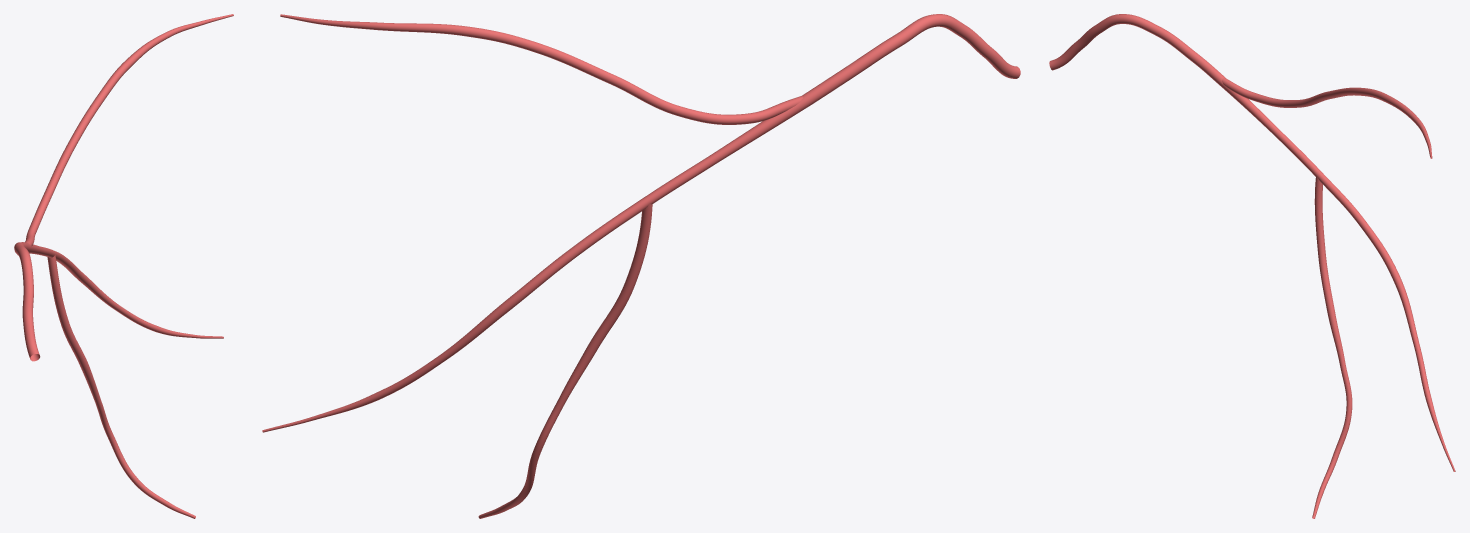
The model's file is Temporo-occipital_branch.r_BezierCurve.236.glb.
The picture shows the model from 3 angles, left to right: view 1: azimuth 30°, elevation 25°; view 2: azimuth 150°, elevation 25°; view 3: azimuth 270°, elevation 25°; orthographic projection. The views are drawn at different scales.
Visible parts, largest first — view 1: Temporo-occipital_branch.r_BezierCurve.236; view 2: Temporo-occipital_branch.r_BezierCurve.236; view 3: Temporo-occipital_branch.r_BezierCurve.236.
Part boxes in pixels (x1,y1,x2,y2): Temporo-occipital_branch.r_BezierCurve.236: (14, 14, 233, 518); Temporo-occipital_branch.r_BezierCurve.236: (262, 14, 1020, 518); Temporo-occipital_branch.r_BezierCurve.236: (1049, 14, 1455, 518).
Bounding box in the file's own units: 0.0442 × 0.0456 × 0.0406.
